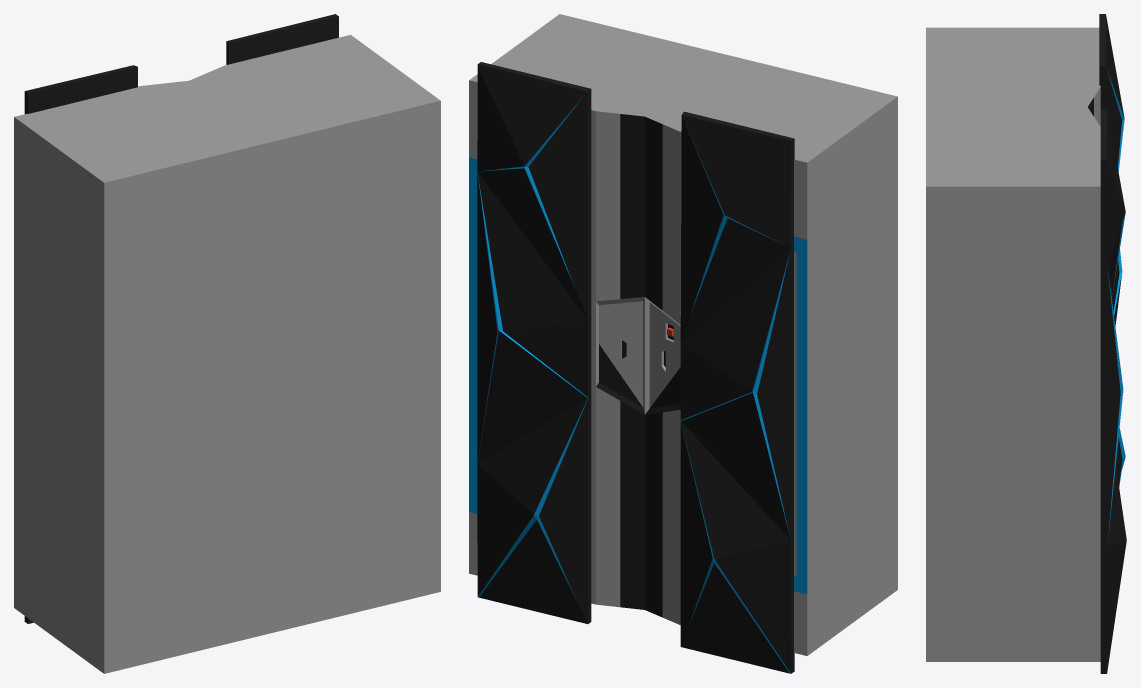
File: mainframe.glb
3 renders of one model, left to right at view 1: azimuth 30°, elevation 25°; view 2: azimuth 150°, elevation 25°; view 3: azimuth 270°, elevation 25°, orthographic. The views are drawn at different scales.
Parts seen in each view (by area): view 1: group948316178, group620019191, group366927640; view 2: group948316178, group620019191, group366927640; view 3: group948316178, group620019191, group366927640.
Part boxes in pixels (x1=…): group948316178: x1=14, y1=34, x2=440, y2=673; group620019191: x1=226, y1=14, x2=338, y2=64; group366927640: x1=24, y1=65, x2=137, y2=623; group948316178: x1=469, y1=14, x2=897, y2=655; group620019191: x1=477, y1=62, x2=591, y2=623; group366927640: x1=680, y1=111, x2=794, y2=673; group948316178: x1=926, y1=27, x2=1100, y2=661; group620019191: x1=1100, y1=108, x2=1126, y2=673; group366927640: x1=1099, y1=14, x2=1125, y2=486.
Size of the model in its own units: 1.16 by 1.75 by 0.6204.
